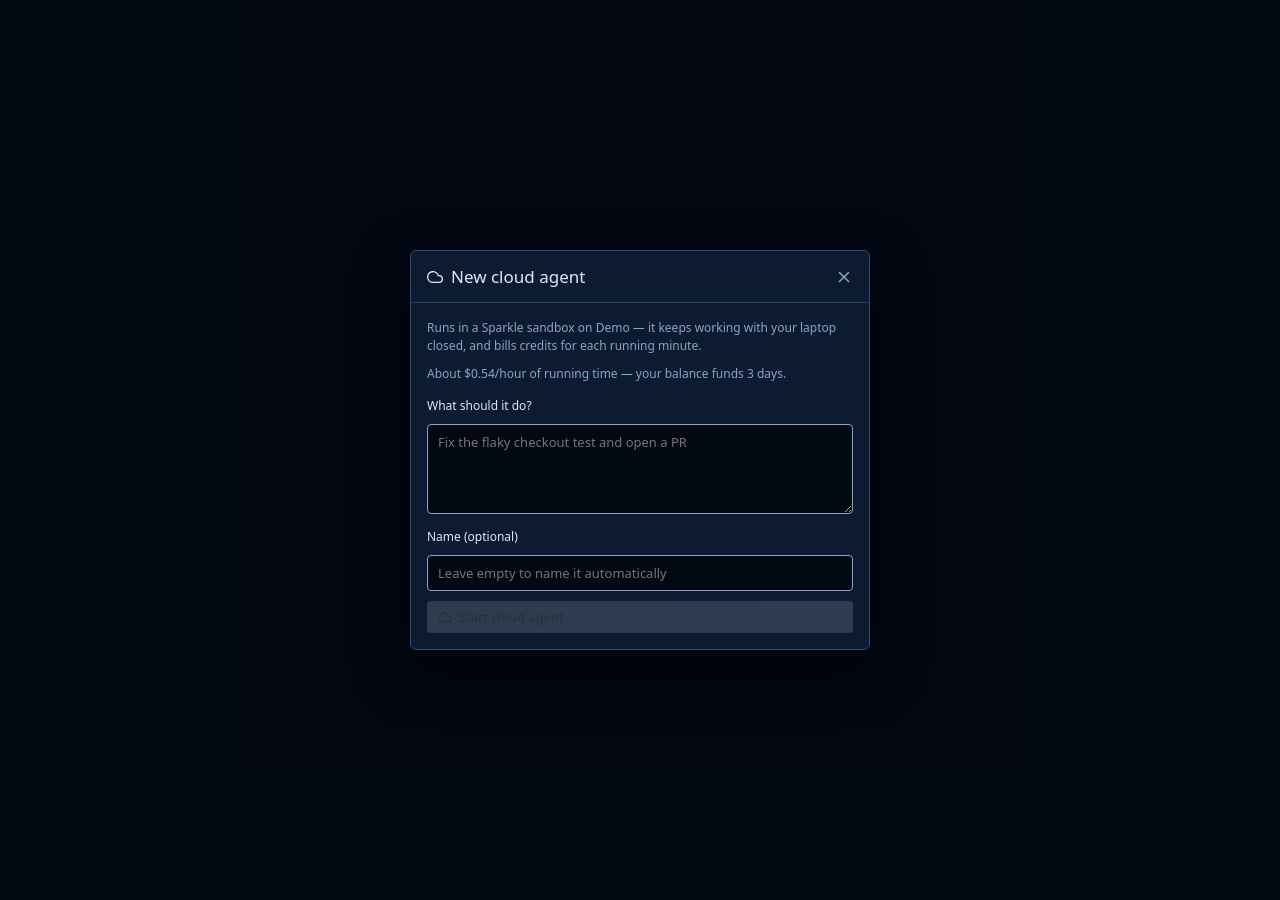
NewCloudAgentDialog — start › says you're offline (not 'unavailable') when the start can't reach the server
The image size is (1280, 900).
In the text box with test id "cloud-goal": (640, 469) x1=427 y1=424 x2=853 y2=514, type "do the thing"
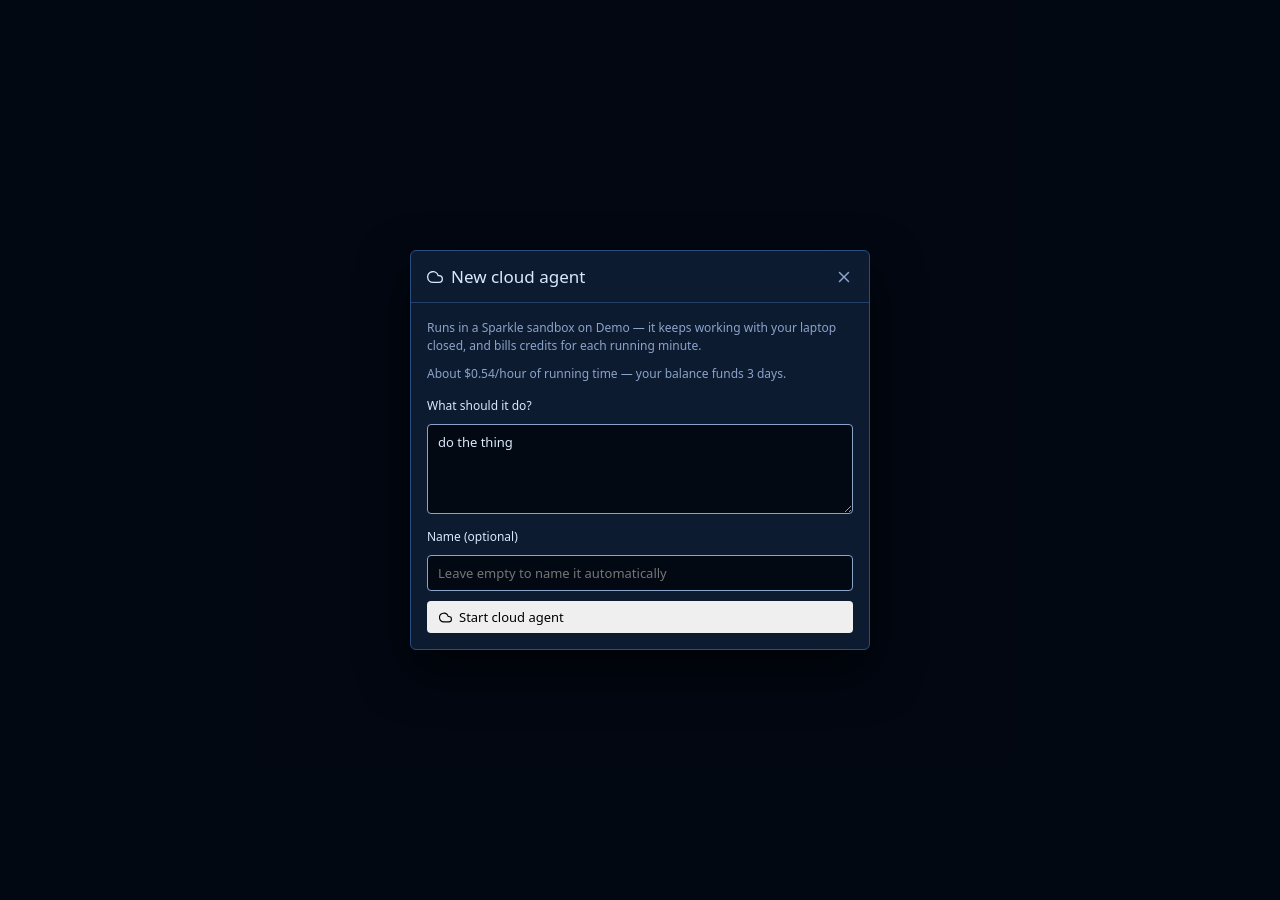
Click the button "Start cloud agent": click(511, 617) x1=427 y1=601 x2=853 y2=633
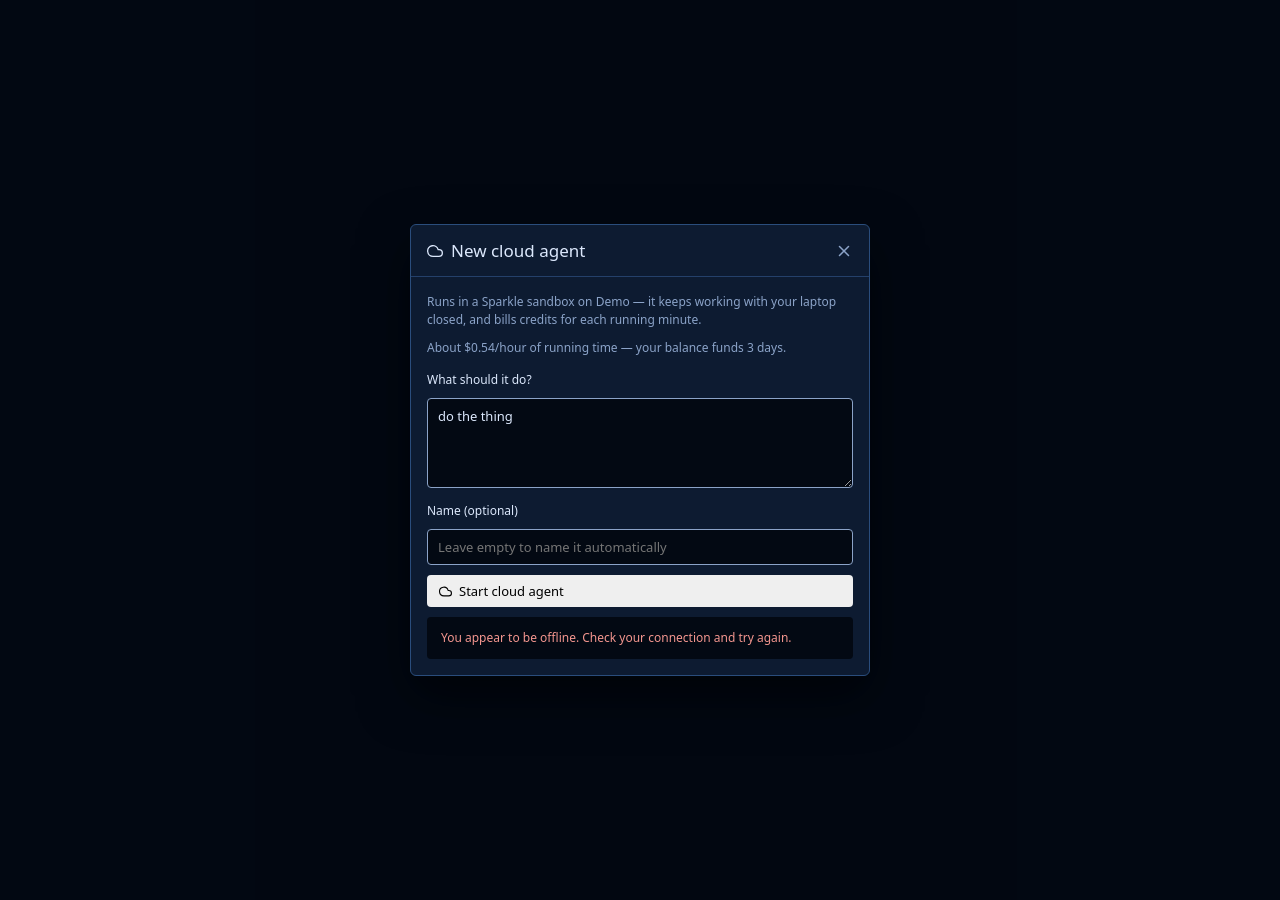
Expected: the element with test id "cloud-start-error" shows "offline", x1=441 y1=629 x2=792 y2=646
